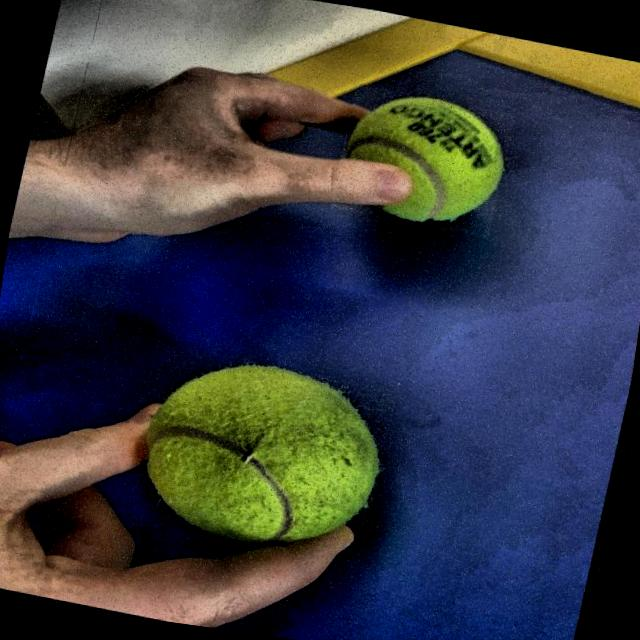Tennis Ball: (122, 340, 401, 574), (328, 82, 518, 240)
